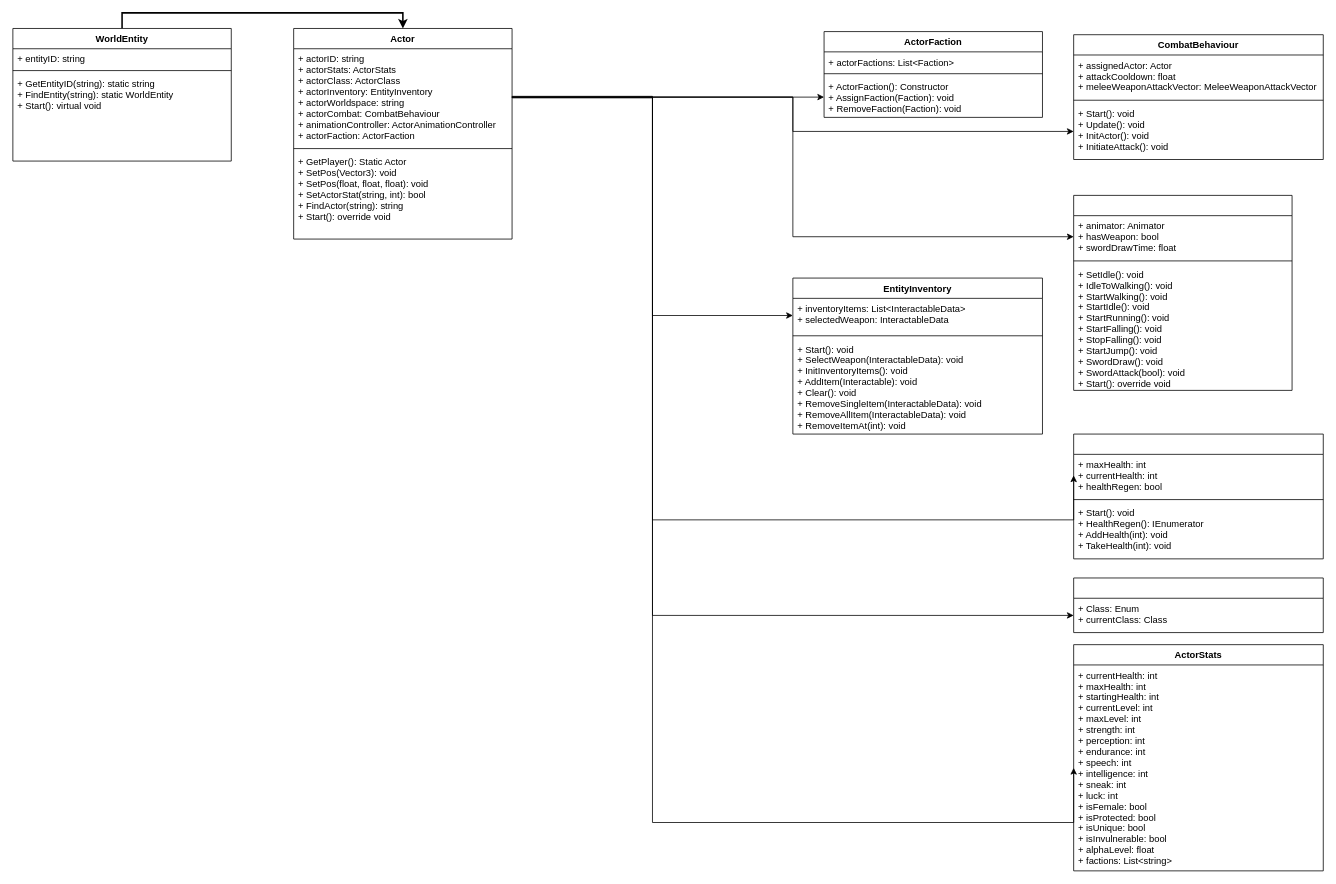
The diagram is 1336 pixels wide and 884 high, and some of its shapes have lost their labels. The box of each missing label's shape, as (x1, y1, x2, y2) in pixels:
ActorAnimationController: (1073, 195, 1292, 390)
ActorClass: (1073, 577, 1323, 633)
ActorHealth: (1073, 433, 1323, 559)
